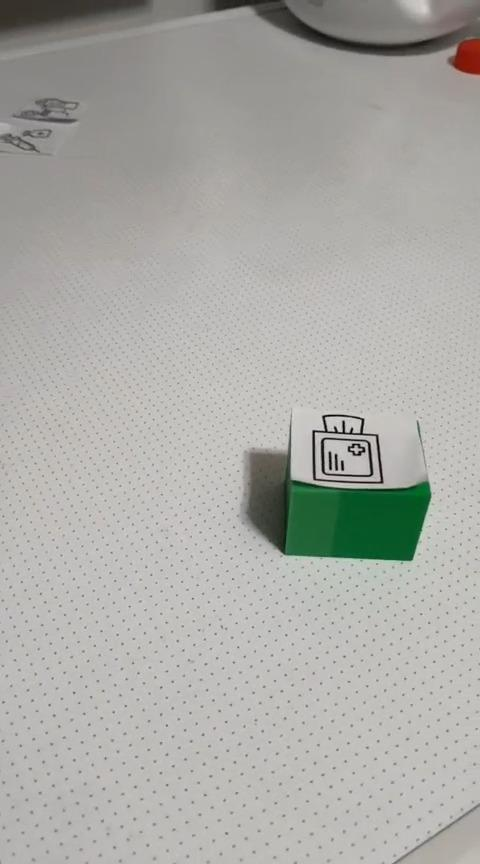Gauze: (280, 405, 431, 562)
